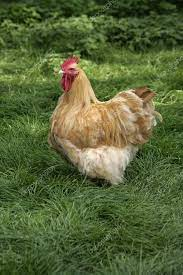buff: (55, 51, 137, 167)
